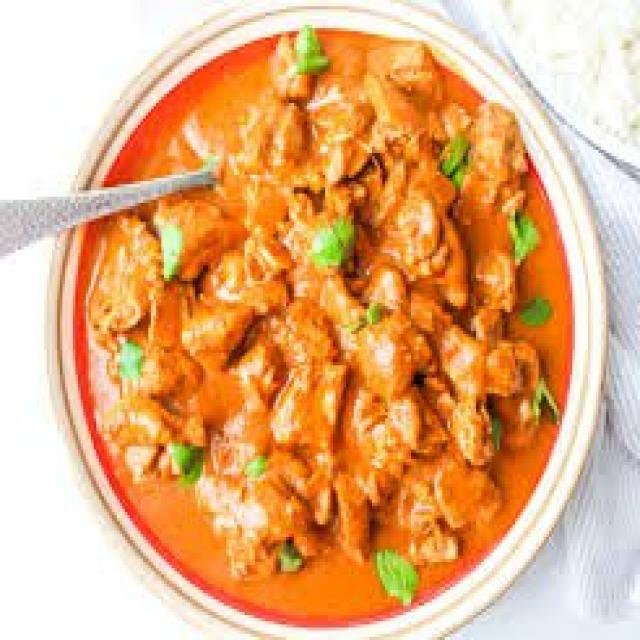Butter Chicken: (74, 33, 571, 632)
